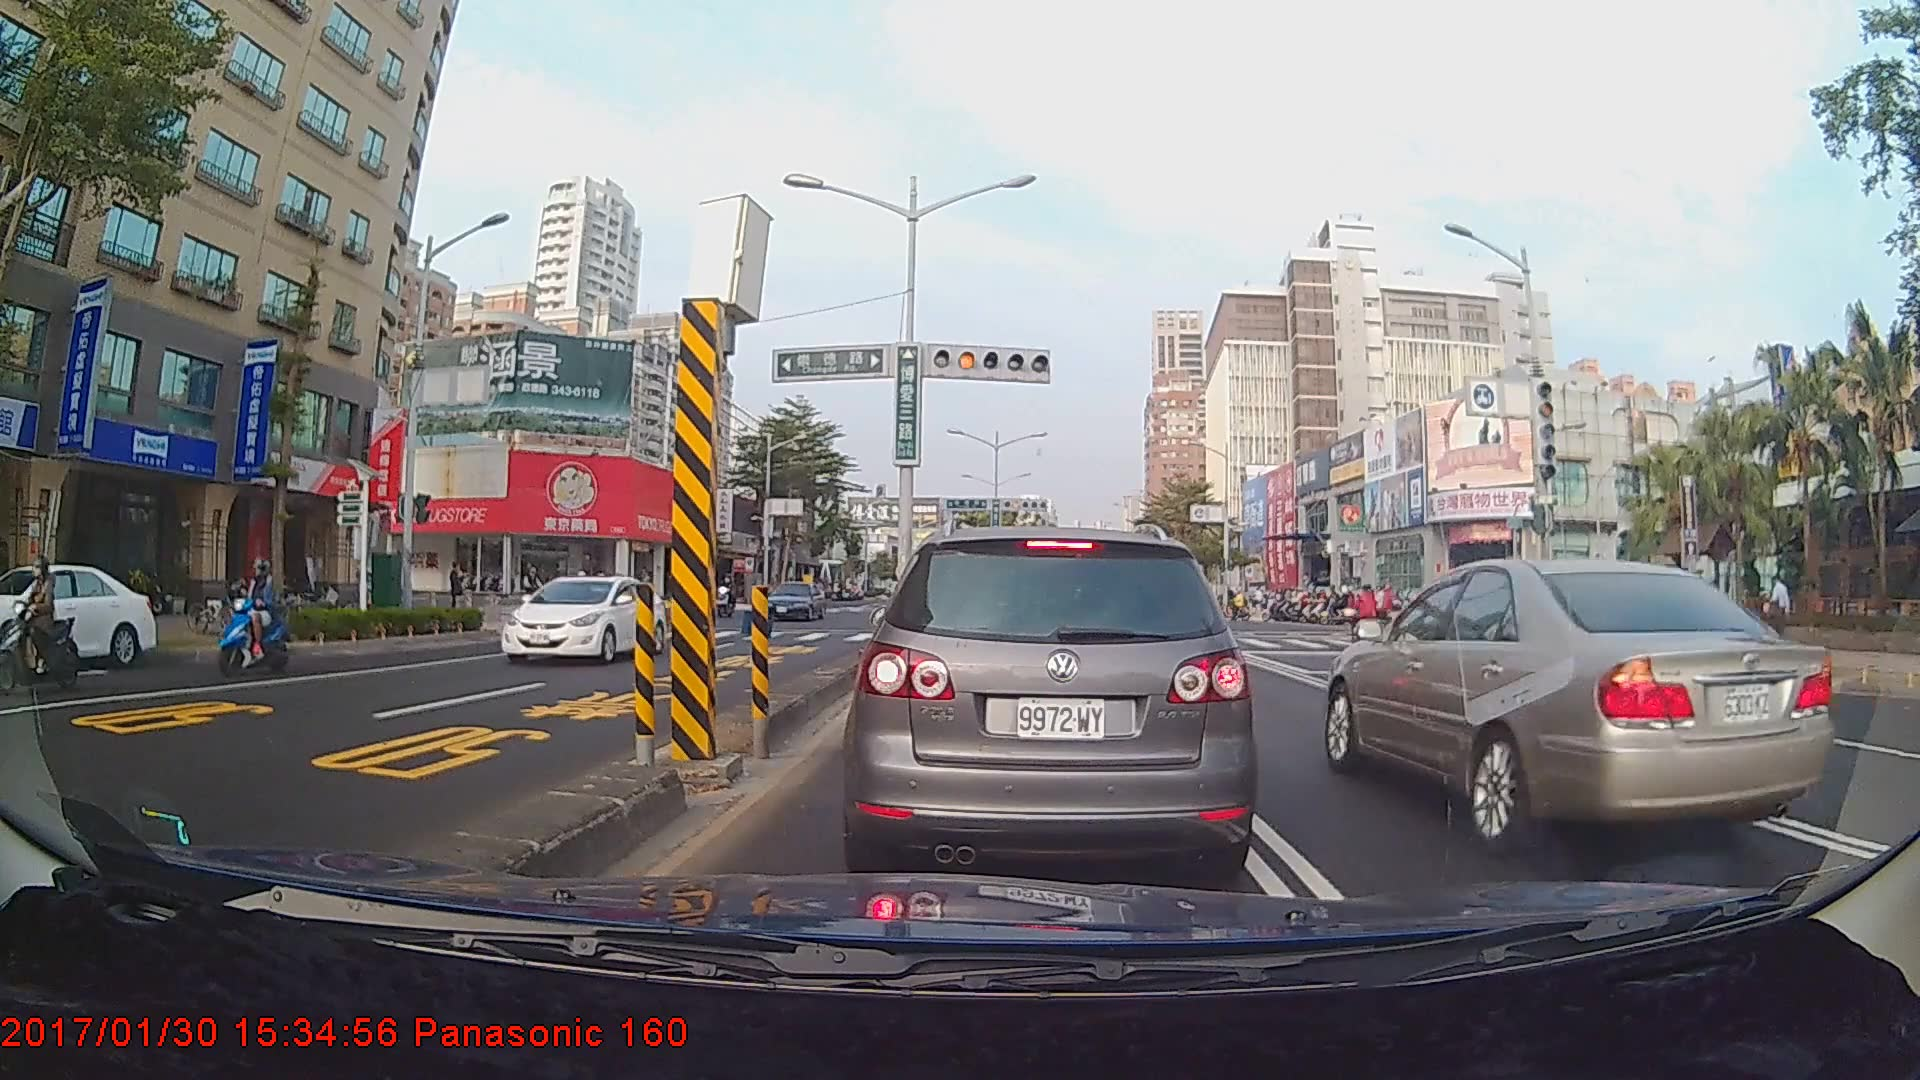pedestrian: (1766, 573, 1792, 647), (448, 558, 468, 621)
rider: (1, 561, 92, 698), (211, 550, 295, 690), (1346, 582, 1393, 667)
vehicle: (1325, 549, 1837, 857), (853, 520, 1252, 876), (0, 561, 179, 671), (499, 573, 665, 664), (760, 578, 826, 622)
